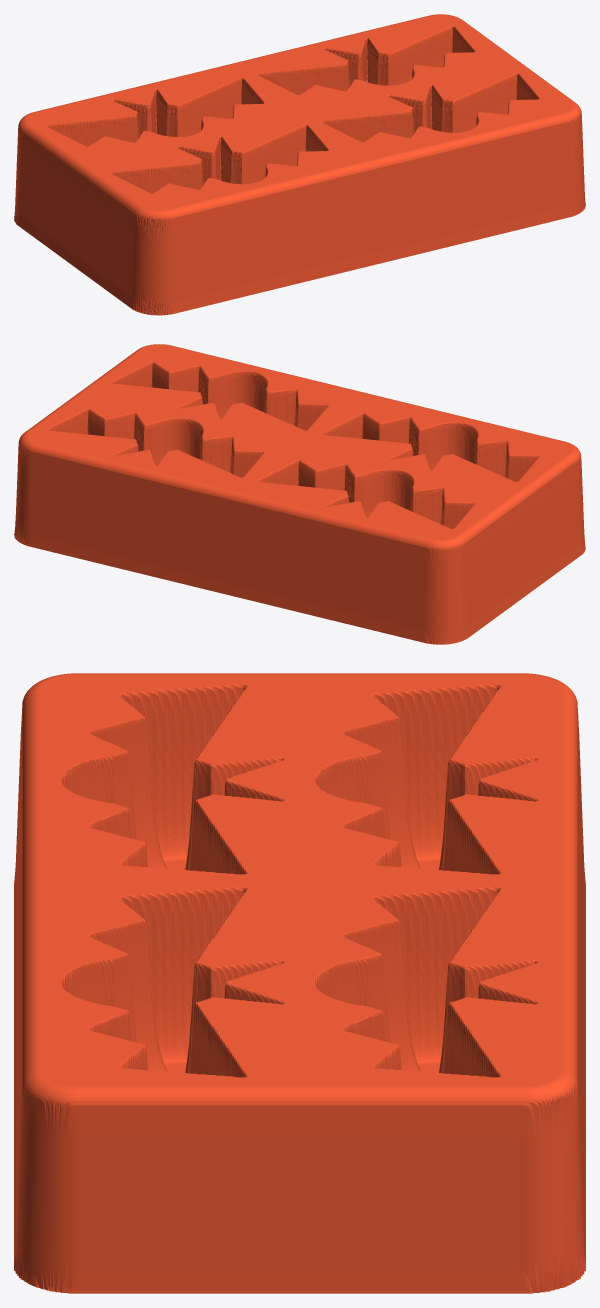
File: mold.glb
The picture shows the model from 3 angles, top to bottom: view 1: azimuth 30°, elevation 25°; view 2: azimuth 150°, elevation 25°; view 3: azimuth 270°, elevation 25°; orthographic projection. The views are drawn at different scales.
Visible parts, largest first — view 1: geometry_0; view 2: geometry_0; view 3: geometry_0.
Boxes of the visible parts, x1,y1,x2,y2 form: geometry_0: [14, 14, 585, 315]; geometry_0: [14, 344, 585, 644]; geometry_0: [14, 673, 585, 1293].
Bounding box in the file's own units: 0.1466 × 0.031 × 0.0818.
